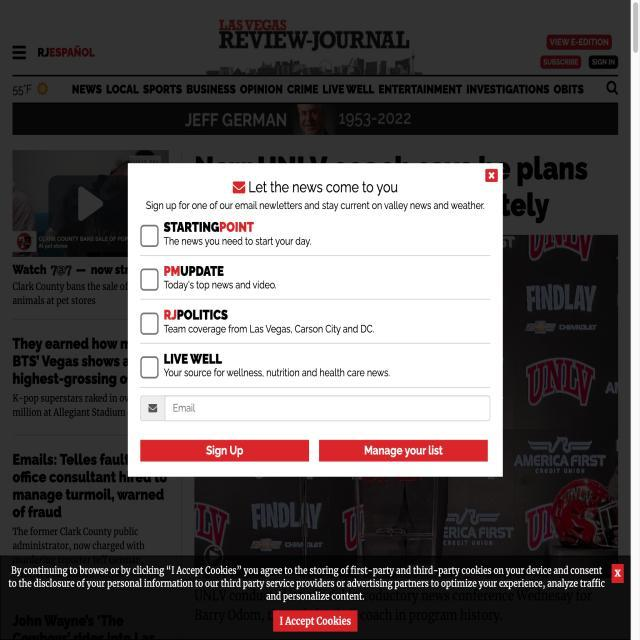button: (317, 429, 490, 466), (139, 433, 311, 468), (267, 612, 363, 632)
checkbox: (134, 256, 169, 295), (136, 302, 164, 342), (136, 219, 165, 251), (138, 353, 166, 383)
input field: (140, 394, 493, 426)
modal: (123, 154, 510, 486)
